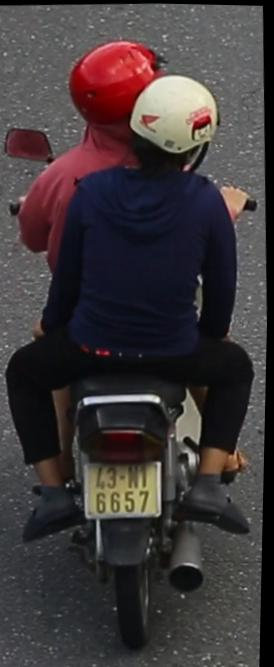LP: (80, 452, 170, 522)
helmet: (121, 68, 227, 193), (61, 31, 175, 146)
